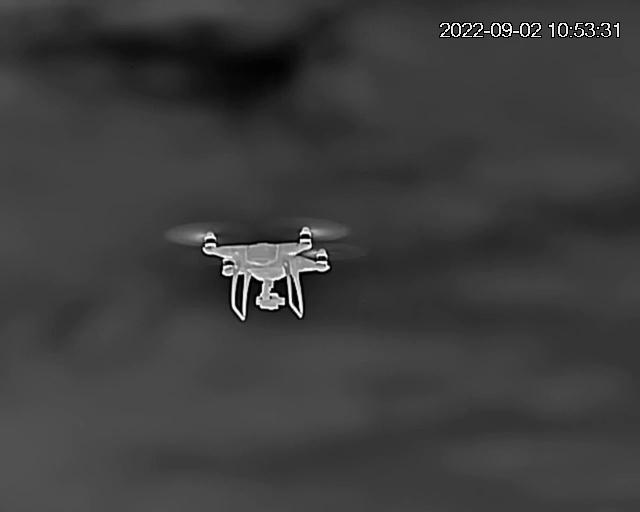DJI-Phantom: (169, 222, 354, 319)
